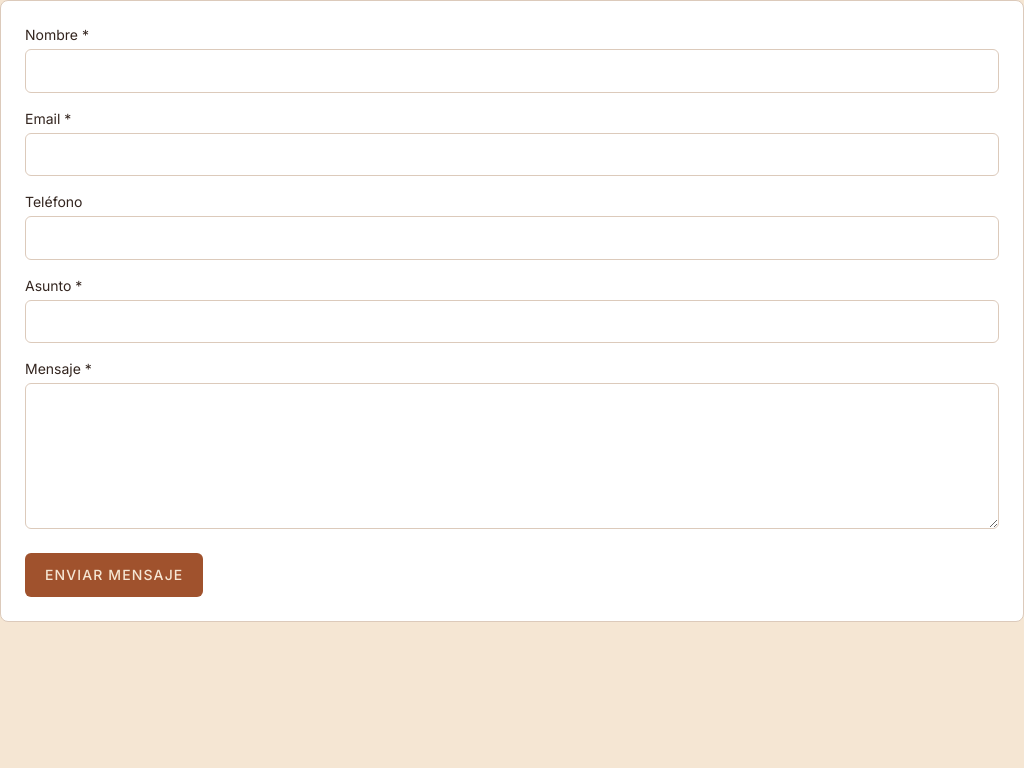
it: ContactForm › teléfono con letras no suma 10 dígitos
Type "Ana" into the field labelled "Nombre *" at (512, 71), box [25, 49, 999, 93]
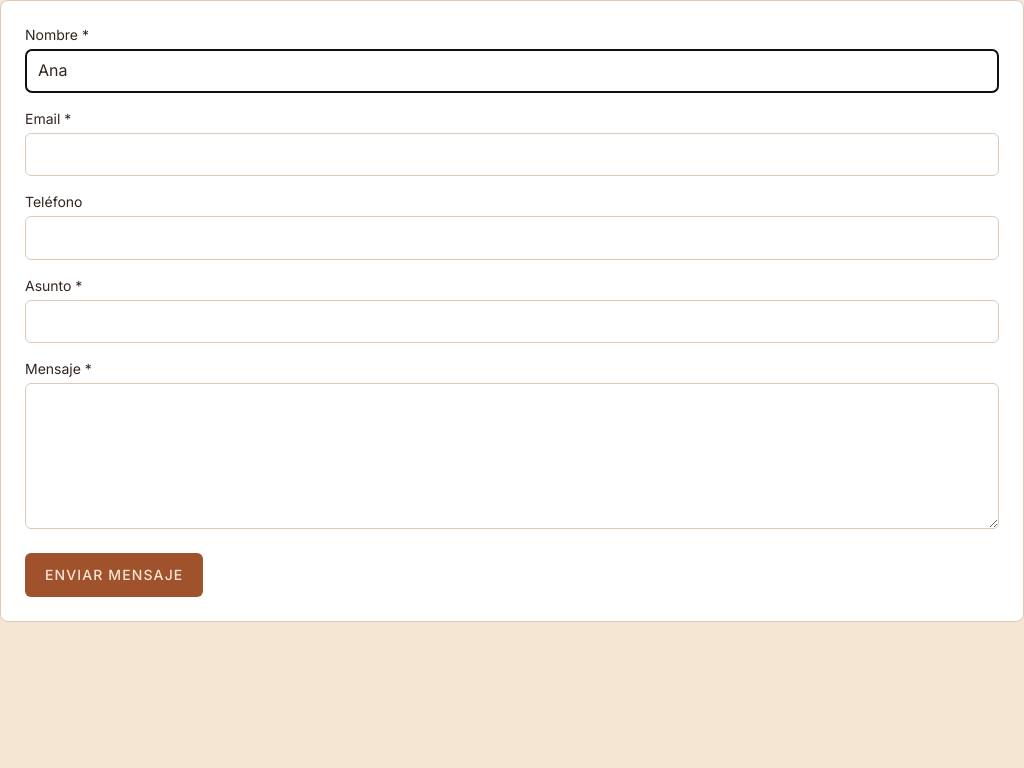
Type "ana@correo.com" into the field labelled "Email *" at (512, 154), box [25, 133, 999, 176]
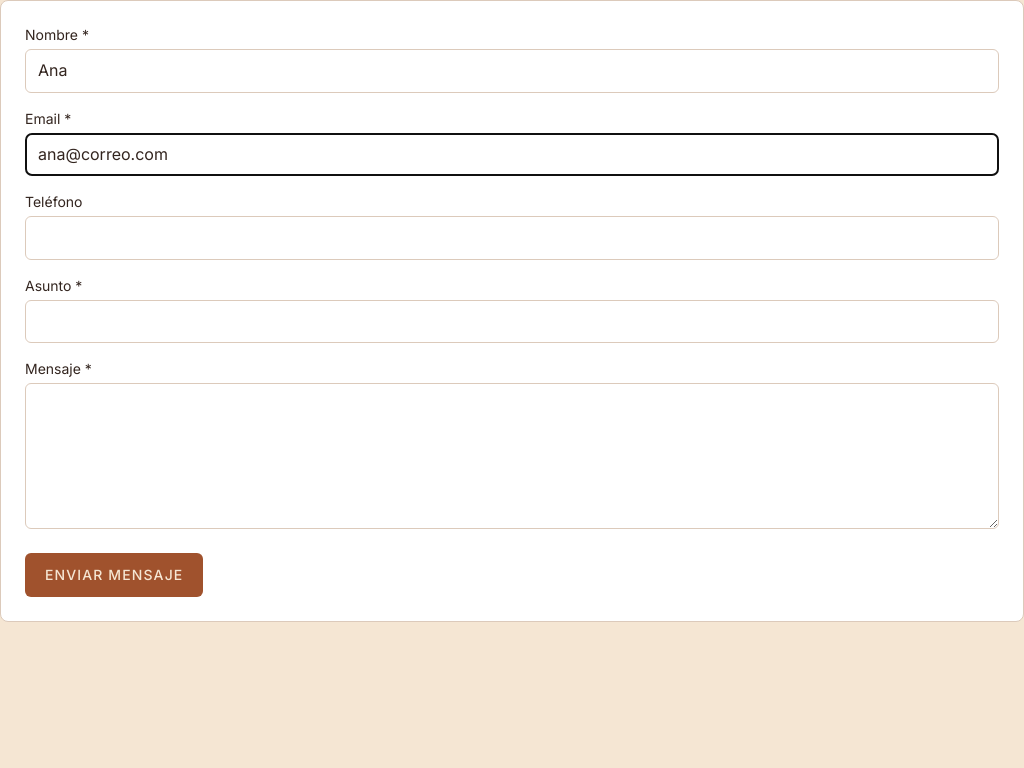
Type "abcdefghij" into the field labelled "Teléfono" at (512, 238), box [25, 216, 999, 260]
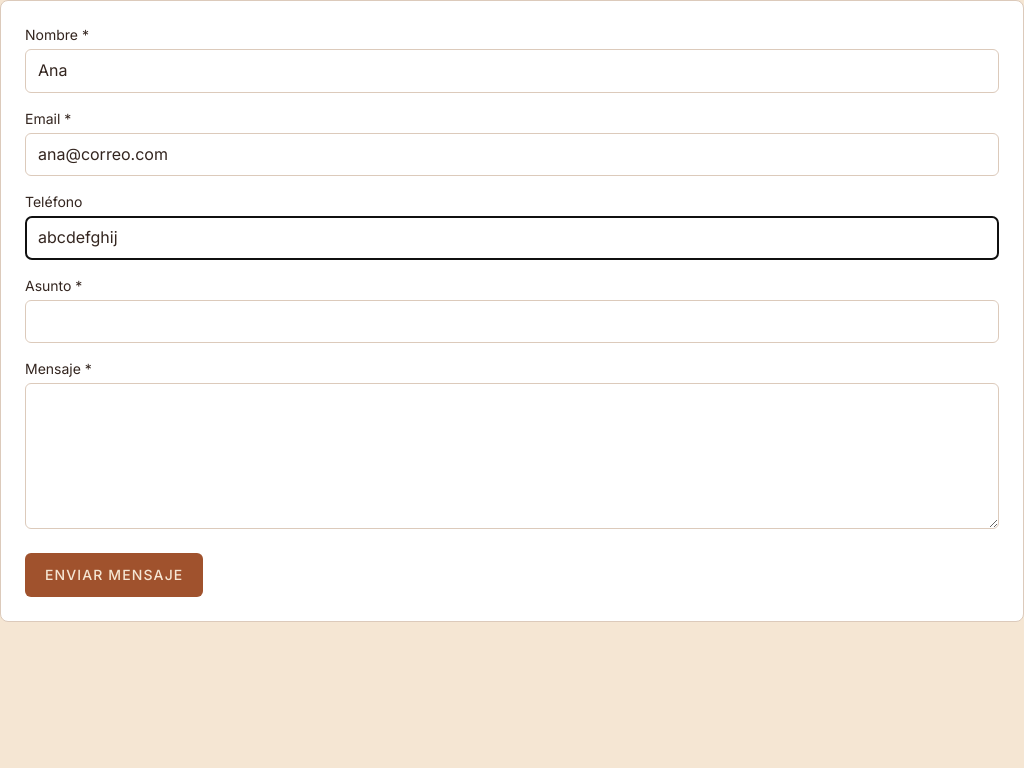
Type "Consulta" into the field labelled "Asunto *" at (512, 322), box [25, 300, 999, 343]
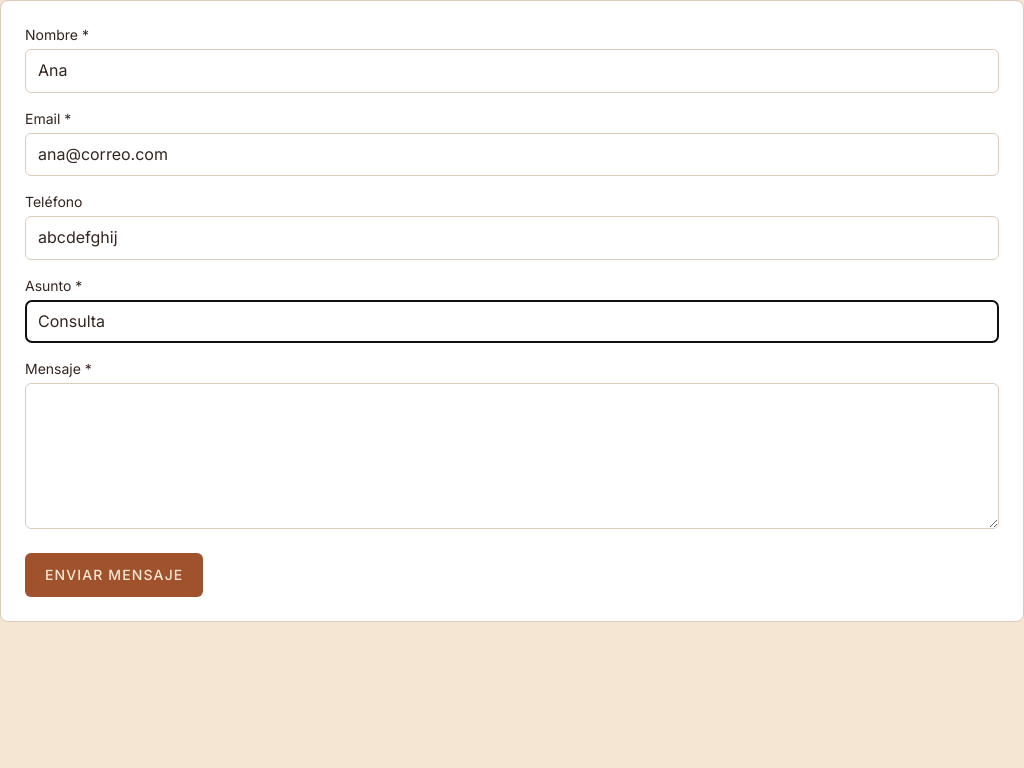
Type "Quiero un presupuesto" into the text box labelled "Mensaje *" at (512, 456), box [25, 383, 999, 529]
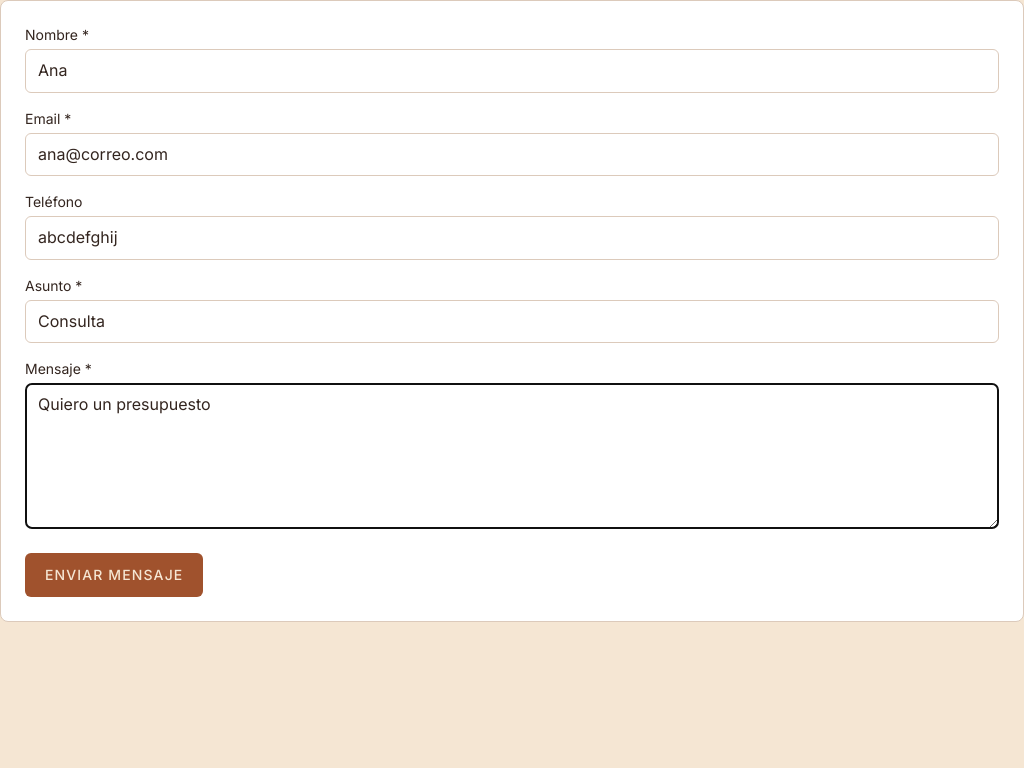
Click the button "Enviar mensaje" at (114, 575), box [25, 553, 203, 597]
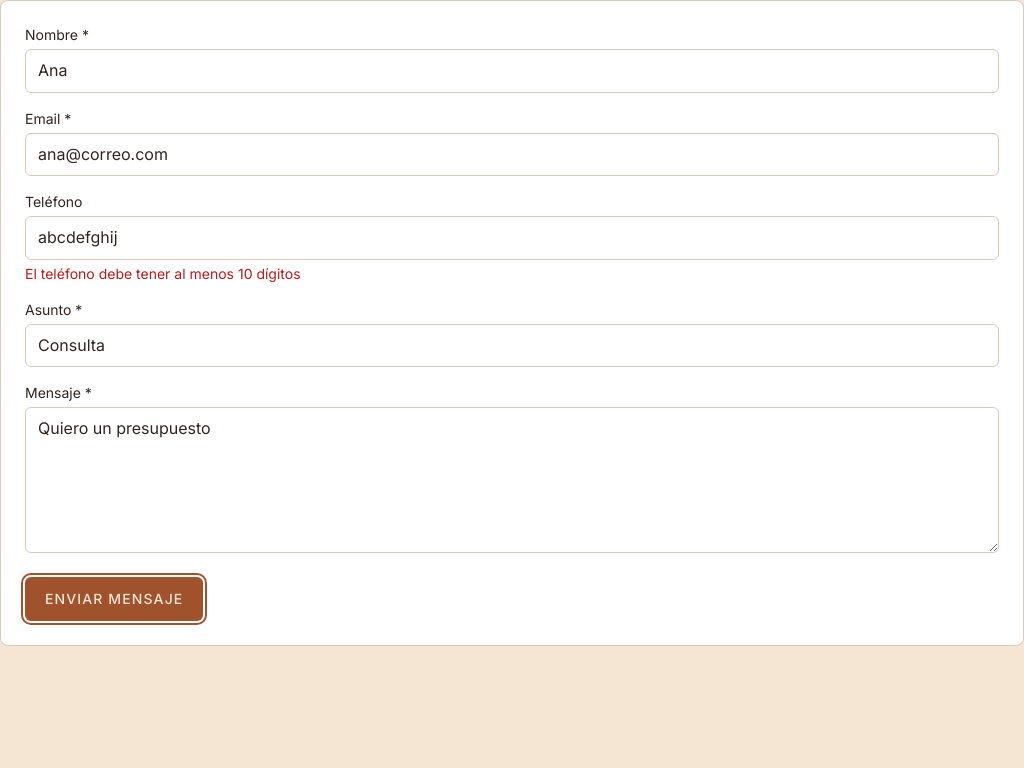
Check: the text "El teléfono debe tener al menos 10 dígitos" is shown, box [25, 265, 301, 282]
